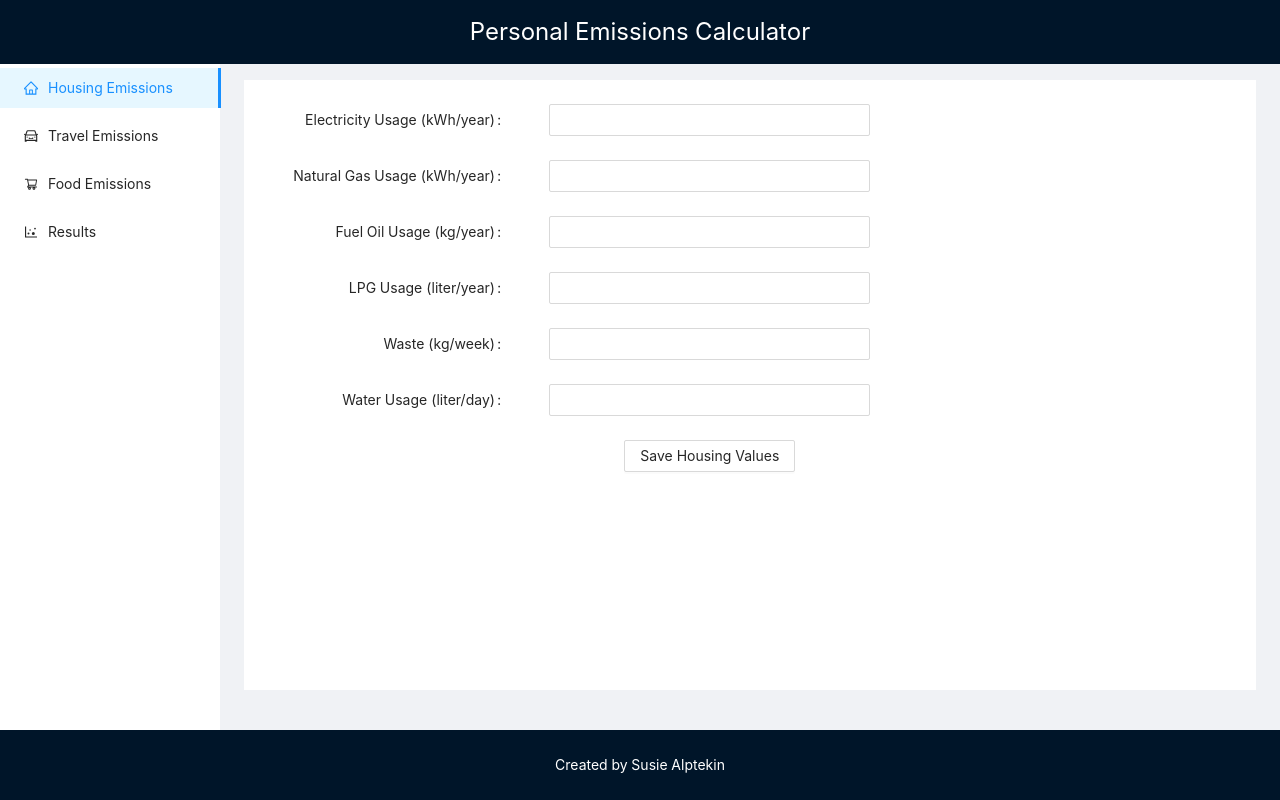
Test: menu navigation food emissions
# click on food emissions and validate form text
Click the menu item "Food Emissions" at (88, 184), box top-left (24, 175), bottom-right (151, 192)
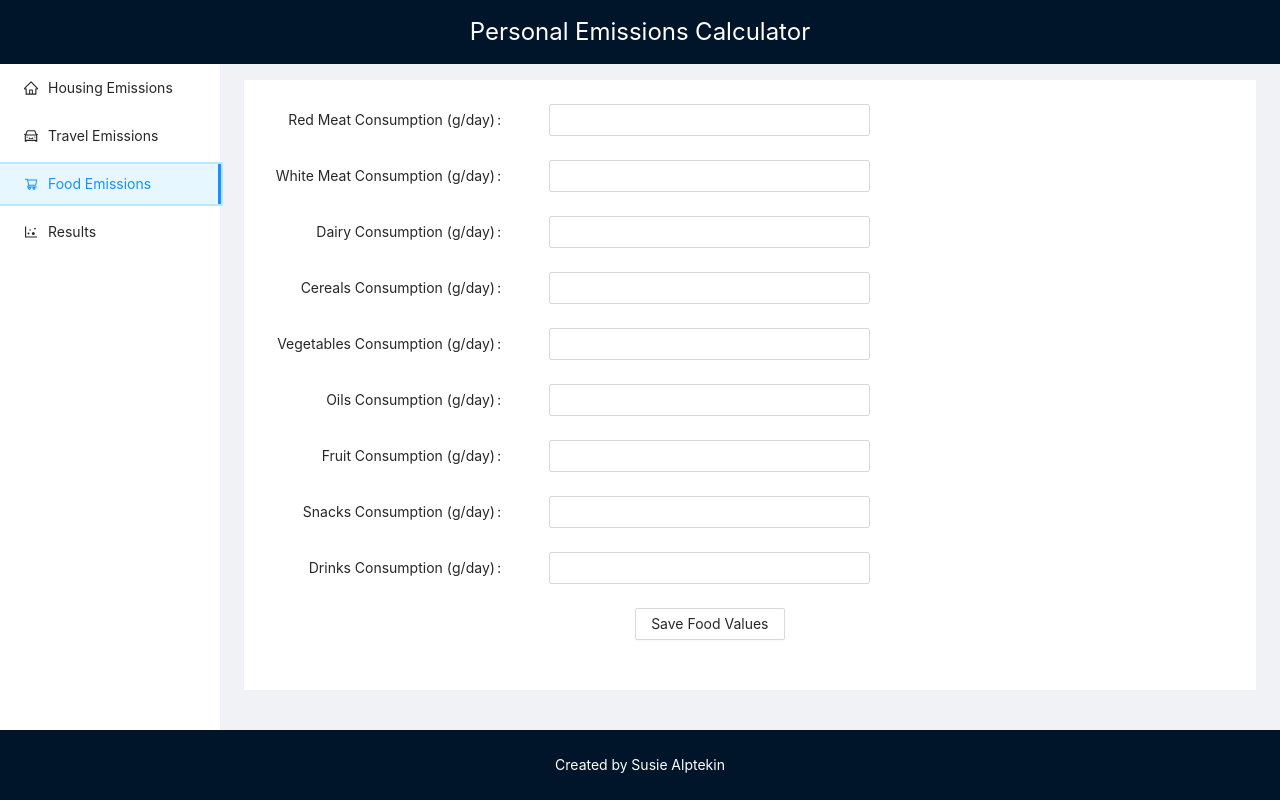
Check: the text "Red Meat Consumption (g/day)" is shown, box top-left (288, 111), bottom-right (495, 128)
Check: the text "White Meat Consumption (g/day)" is shown, box top-left (276, 167), bottom-right (495, 184)
Check: the text "Dairy Consumption (g/day)" is shown, box top-left (316, 223), bottom-right (495, 240)
